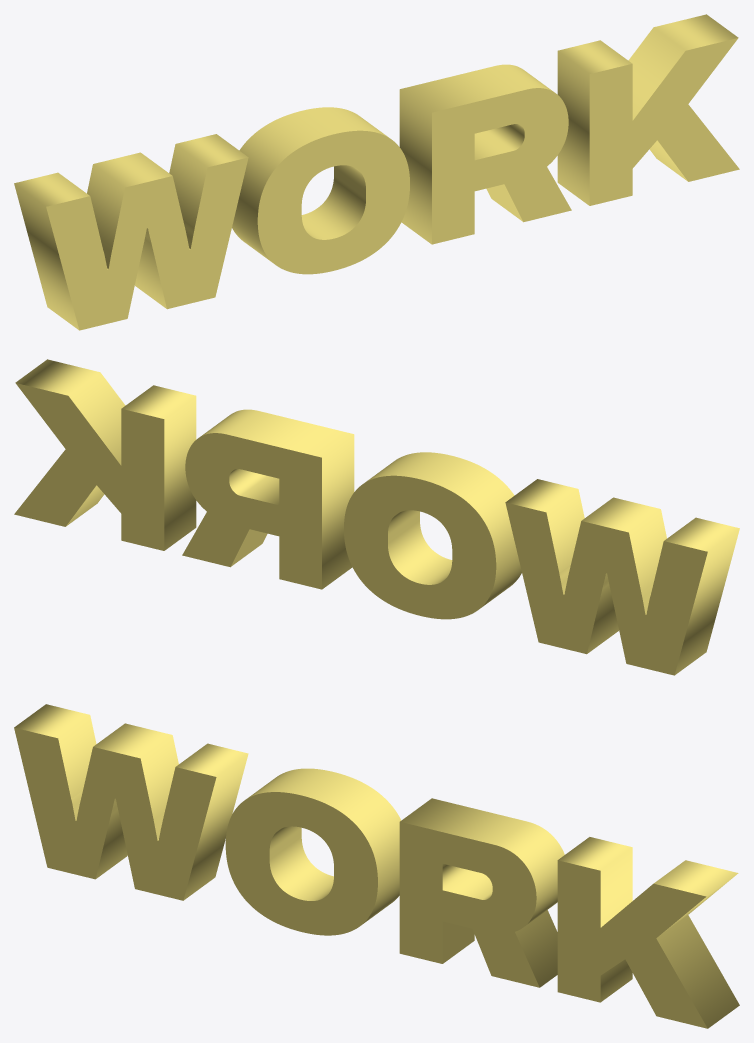
The model's file is work.glb.
3 views of the same model, one above another, from view 1: azimuth 30°, elevation 25°; view 2: azimuth 150°, elevation 25°; view 3: azimuth 330°, elevation 25° (orthographic).
Visible parts, largest first — view 1: Text; view 2: Text; view 3: Text.
Part boxes in pixels (<box>): Text: <box>14,14,739,330</box>; Text: <box>14,359,739,675</box>; Text: <box>14,704,739,1028</box>.
Size of the model in its own units: 2.5 by 0.4697 by 0.2.
